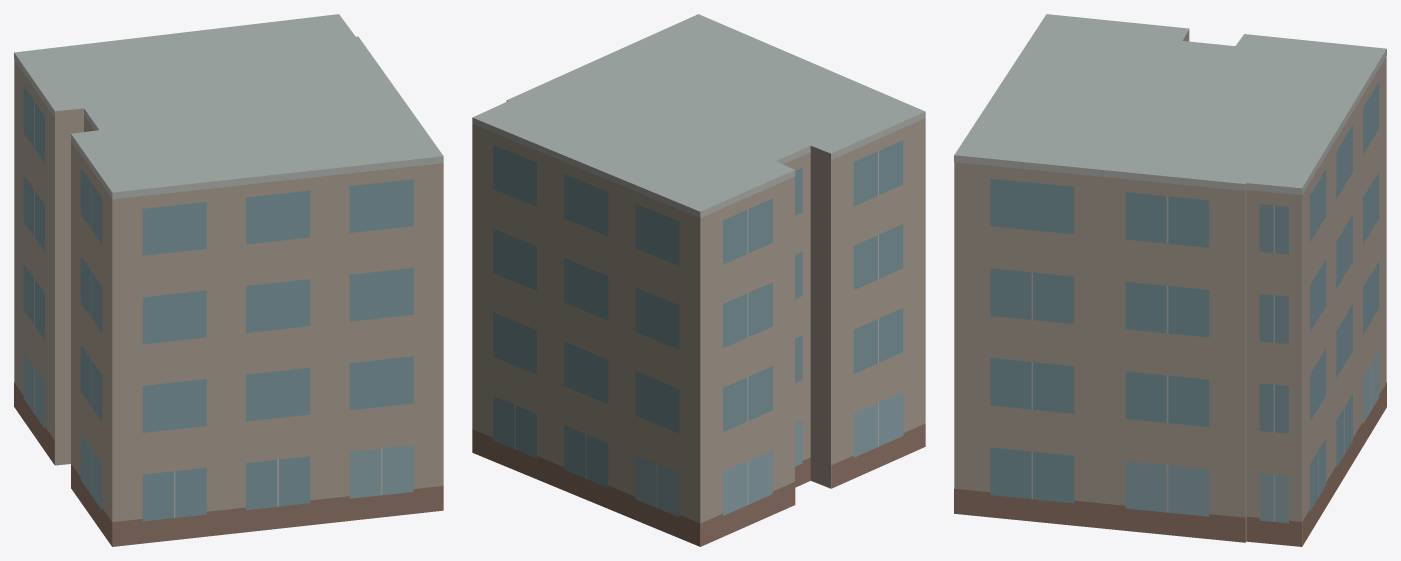
The model's file is survey-upis-32665261.glb.
3 views of the same model, side by side, from view 1: azimuth 30°, elevation 25°; view 2: azimuth 150°, elevation 25°; view 3: azimuth 270°, elevation 25° (orthographic). The views are drawn at different scales.
Parts seen in each view (by area): view 1: survey-upis-32665261.tmp; view 2: survey-upis-32665261.tmp; view 3: survey-upis-32665261.tmp.
Part boxes in pixels (bbox=[...]): survey-upis-32665261.tmp: bbox=[14, 14, 443, 546]; survey-upis-32665261.tmp: bbox=[472, 14, 925, 546]; survey-upis-32665261.tmp: bbox=[954, 14, 1386, 546].
Size of the model in its own units: 13.25 by 12.7 by 13.9.
